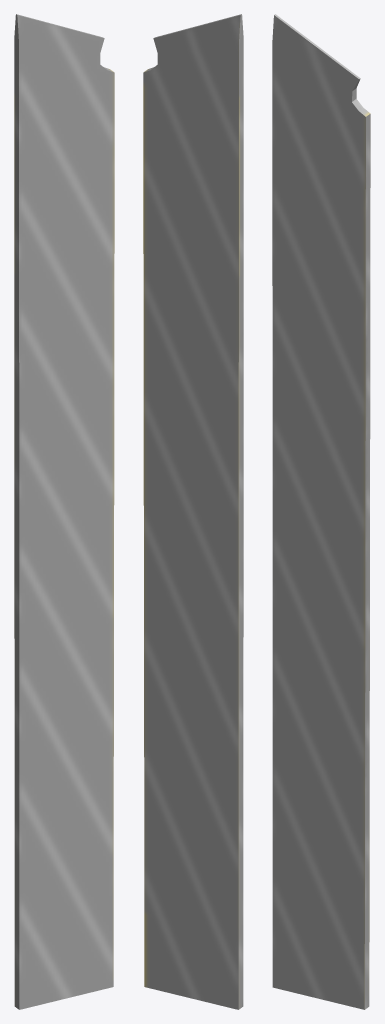
File: CraftKnifeBlade.fbx
3 views of the same model, side by side, from view 1: azimuth 30°, elevation 25°; view 2: azimuth 150°, elevation 25°; view 3: azimuth 330°, elevation 25° (orthographic). The views are drawn at different scales.
Visible parts, largest first — view 1: polySurface1; view 2: polySurface1; view 3: polySurface1.
Boxes of the visible parts, x1,y1,x2,y2 form: polySurface1: (14,14,114,1009); polySurface1: (143,14,243,1009); polySurface1: (272,14,370,1009).
Bounding box in the file's own units: 2.44 × 24.22 × 0.2111.
